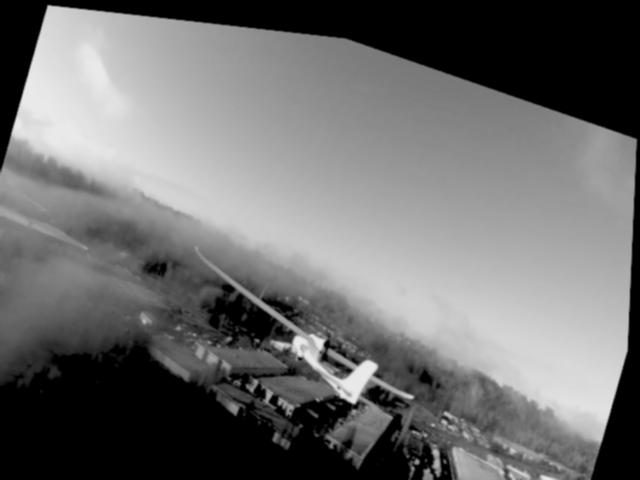hedef: (167, 220, 451, 437)
